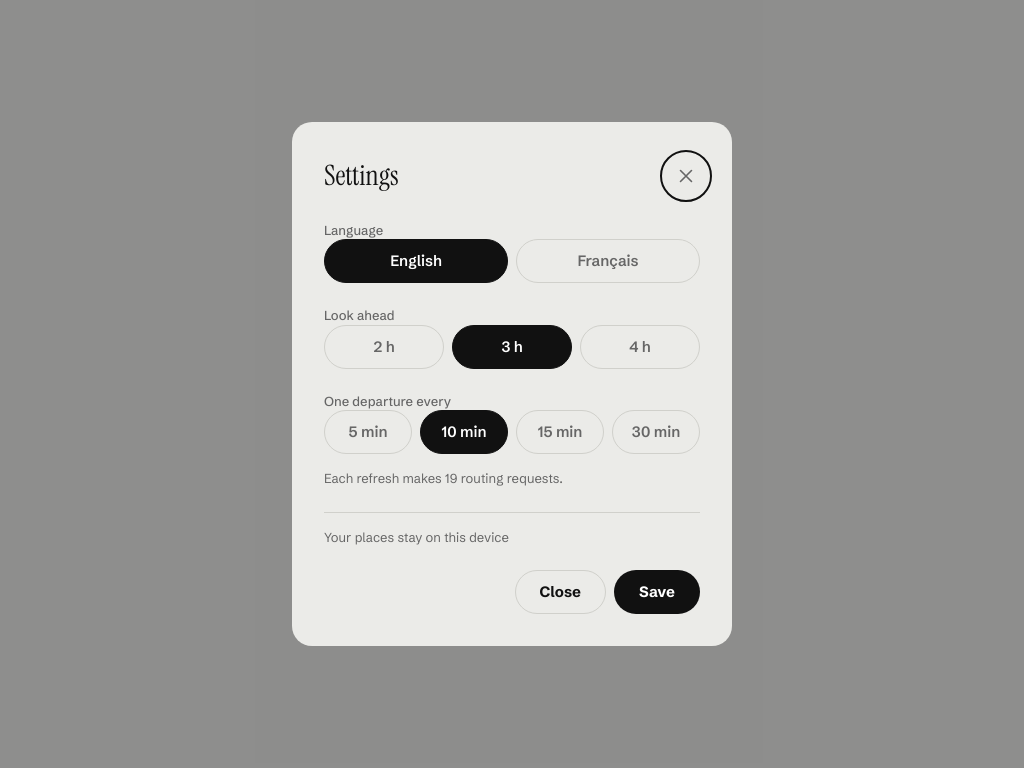
Test: SettingsSheet › saves a new window and tells how many requests a refresh makes
Later steps or results of the test are not shown.
Expected: the text "Each refresh makes 19 routing requests." is shown, x1=324 y1=470 x2=563 y2=486
Click the radio button labelled "4 h". click: (640, 347)
box: x1=580 y1=325 x2=700 y2=369
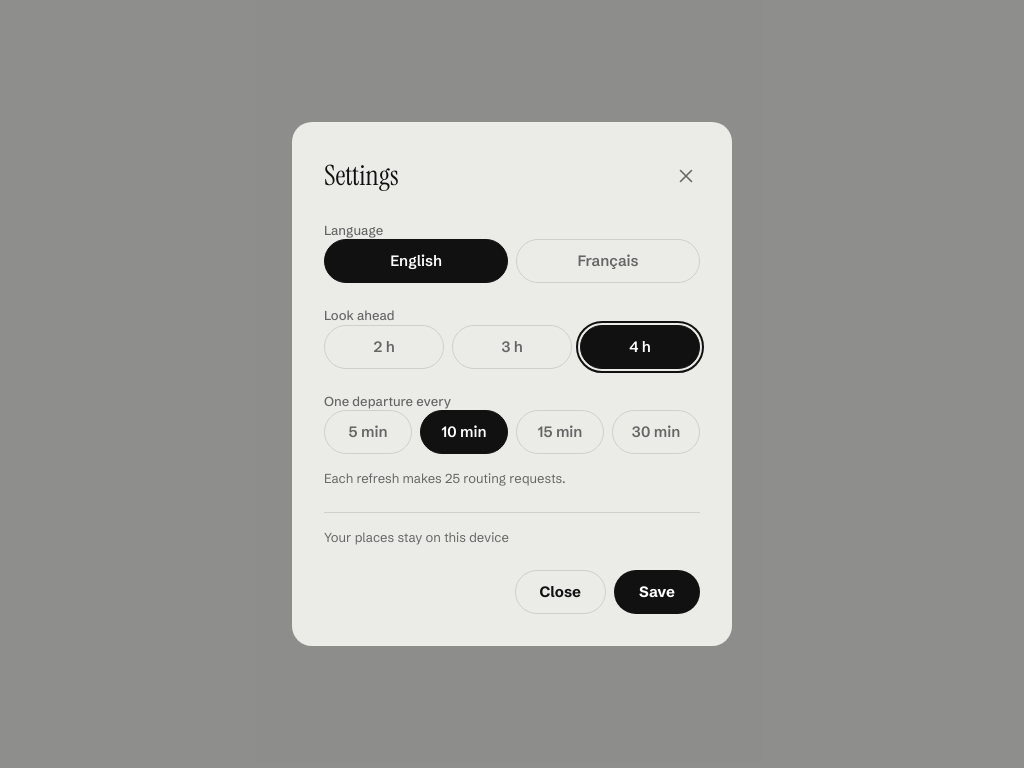
Expected: the text "Each refresh makes 25 routing requests." is shown, x1=324 y1=470 x2=566 y2=486
